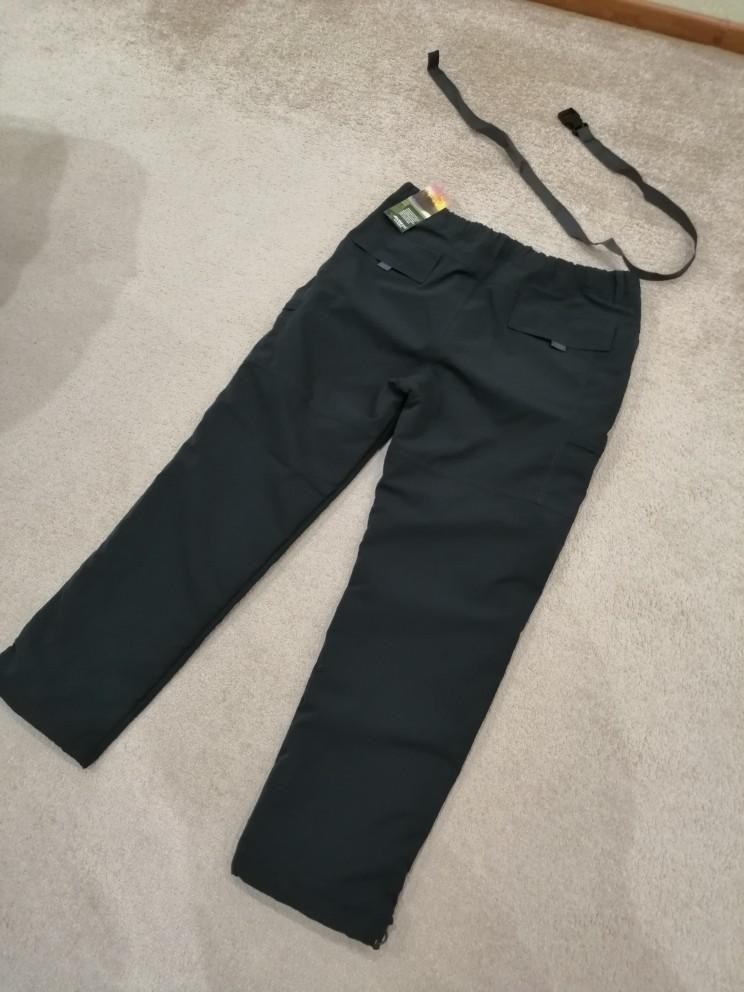pants: (10, 181, 643, 949)
